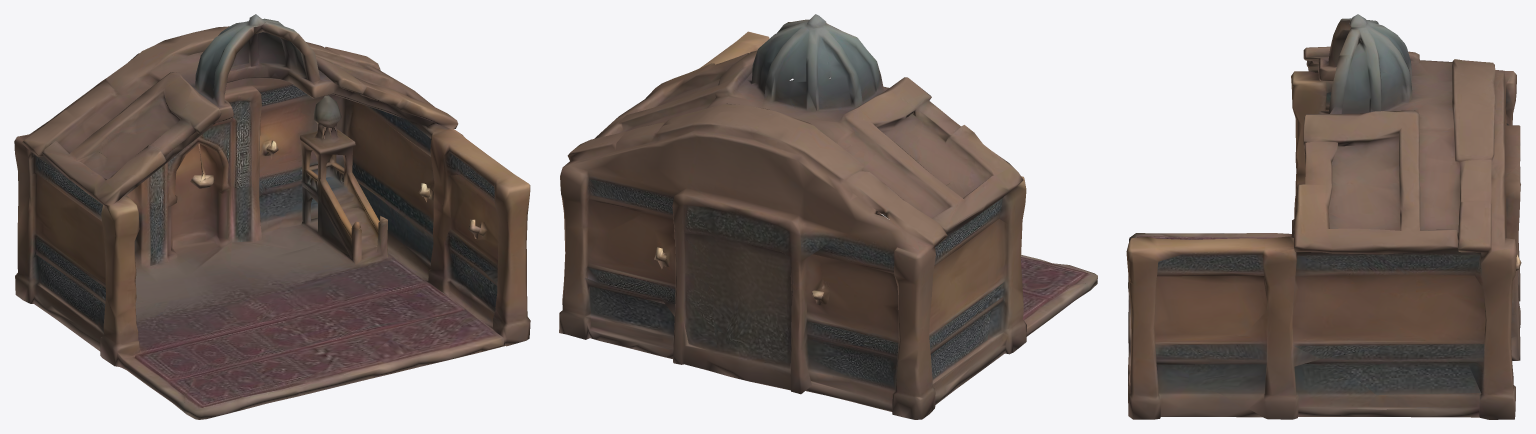
Rendered from mosque_interior.glb.
3 renders of one model, left to right at view 1: azimuth 30°, elevation 25°; view 2: azimuth 150°, elevation 25°; view 3: azimuth 270°, elevation 25°, orthographic. The views are drawn at different scales.
Visible parts, largest first — view 1: tripo_node_179dfd6e-1454-4397-8050-5aebba78dfee; view 2: tripo_node_179dfd6e-1454-4397-8050-5aebba78dfee; view 3: tripo_node_179dfd6e-1454-4397-8050-5aebba78dfee.
Boxes of the visible parts, bbox=[...] form: tripo_node_179dfd6e-1454-4397-8050-5aebba78dfee: bbox=[14, 14, 530, 419]; tripo_node_179dfd6e-1454-4397-8050-5aebba78dfee: bbox=[559, 14, 1097, 419]; tripo_node_179dfd6e-1454-4397-8050-5aebba78dfee: bbox=[1126, 14, 1521, 419].
Bounding box in the file's own units: 1 × 0.7981 × 0.905.
Materials: 1 (1 with a texture image).
